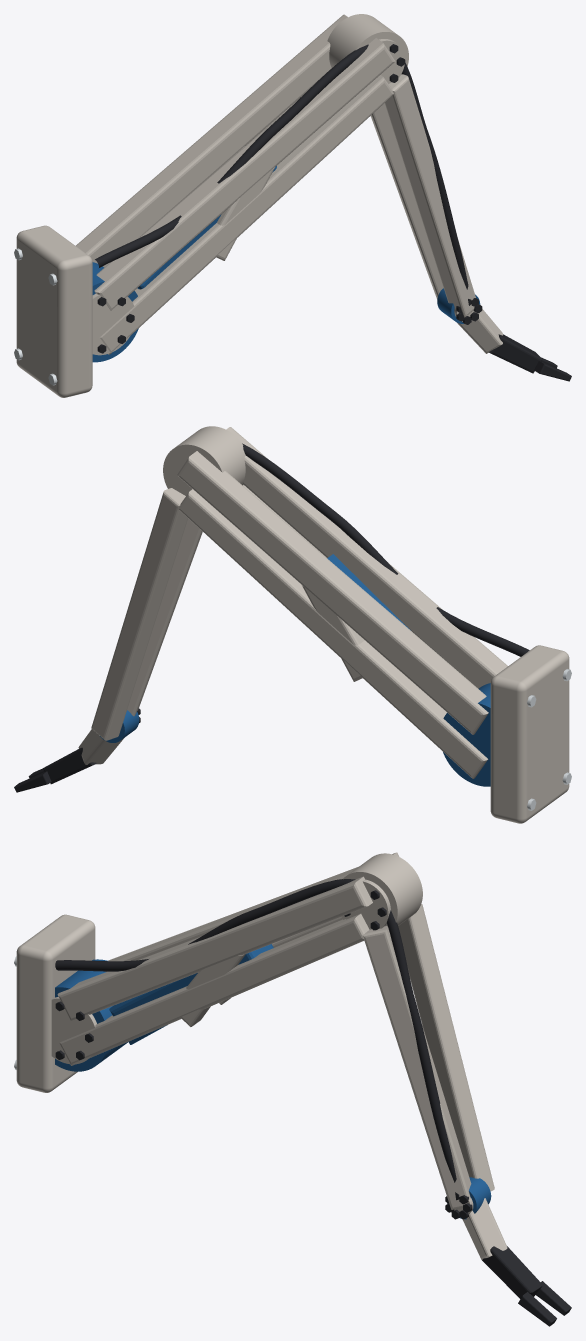
File: anatomy-55.glb
The picture shows the model from 3 angles, top to bottom: view 1: azimuth 30°, elevation 25°; view 2: azimuth 150°, elevation 25°; view 3: azimuth 330°, elevation 25°; orthographic projection. The views are drawn at different scales.
Visible parts, largest first — view 1: upper, mount, shin, tendon, knee, claw, hip, ankle; view 2: upper, mount, shin, knee, tendon, claw, hip; view 3: upper, shin, mount, tendon, claw, knee, hip, muscle, ankle.
Part boxes in pixels (x1,y1,x2,y2): upper: (76, 14, 395, 354); mount: (16, 225, 92, 397); shin: (370, 74, 475, 317); tendon: (95, 44, 468, 289); knee: (327, 14, 408, 83); claw: (457, 309, 571, 381); hip: (92, 262, 138, 362); ankle: (437, 288, 482, 324); upper: (177, 427, 507, 778); mount: (490, 645, 569, 823); shin: (91, 488, 202, 740); knee: (163, 426, 245, 495); tendon: (242, 443, 529, 656); claw: (14, 729, 124, 792); hip: (443, 683, 490, 786); upper: (57, 852, 399, 1065); shin: (362, 904, 494, 1209); mount: (16, 914, 95, 1092); tendon: (55, 879, 456, 1182); claw: (462, 1198, 571, 1326); knee: (341, 853, 422, 930); hip: (51, 959, 127, 1071); muscle: (109, 944, 273, 1044); ankle: (445, 1177, 491, 1219).
Bounding box in the file's own units: 2.86 × 2.05 × 0.45.
